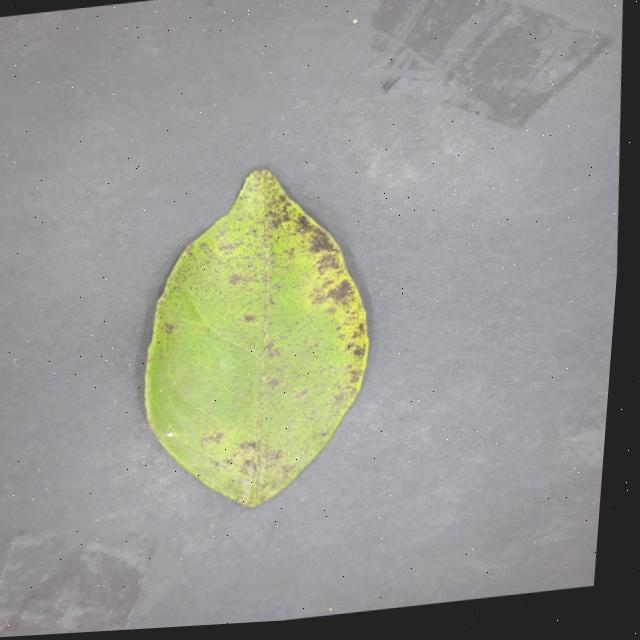greasy_spot: (145, 169, 369, 506)
